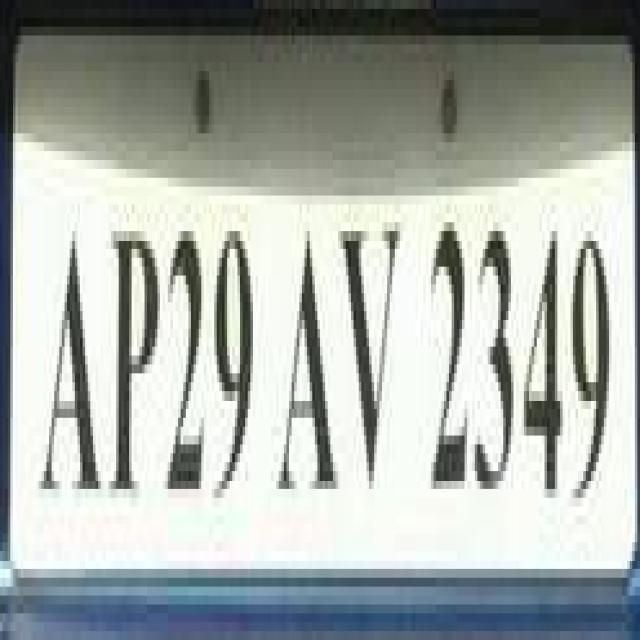license_plate: (18, 107, 640, 613)
